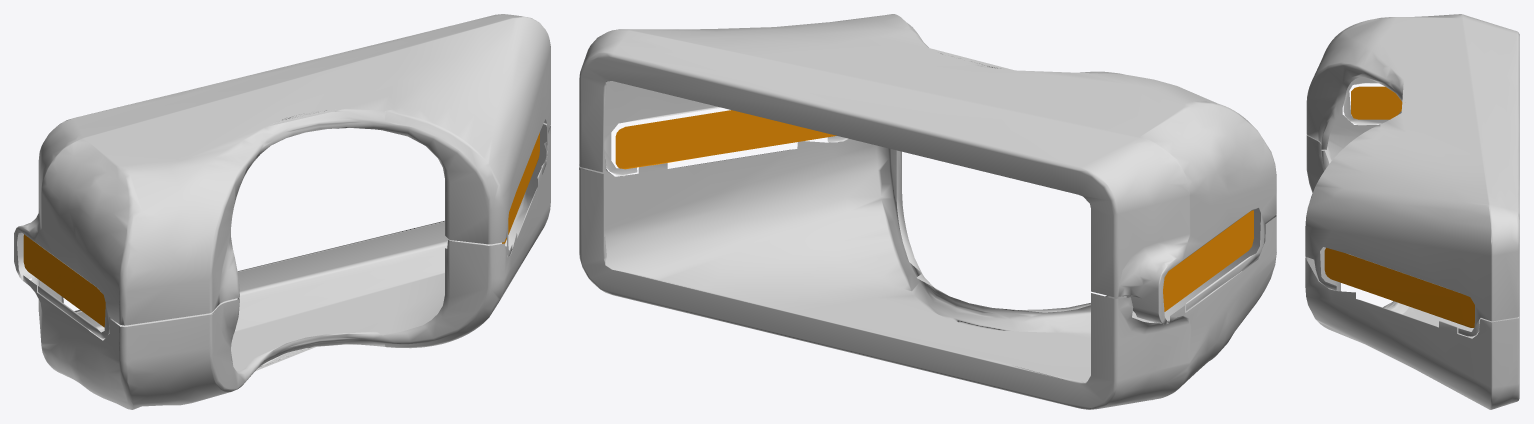
Rendered from sim_ecub_r_ankle_2.obj.
3 renders of one model, left to right at view 1: azimuth 30°, elevation 25°; view 2: azimuth 150°, elevation 25°; view 3: azimuth 270°, elevation 25°, orthographic. The views are drawn at different scales.
Bounding box in the file's own units: 259 × 111 × 106.
